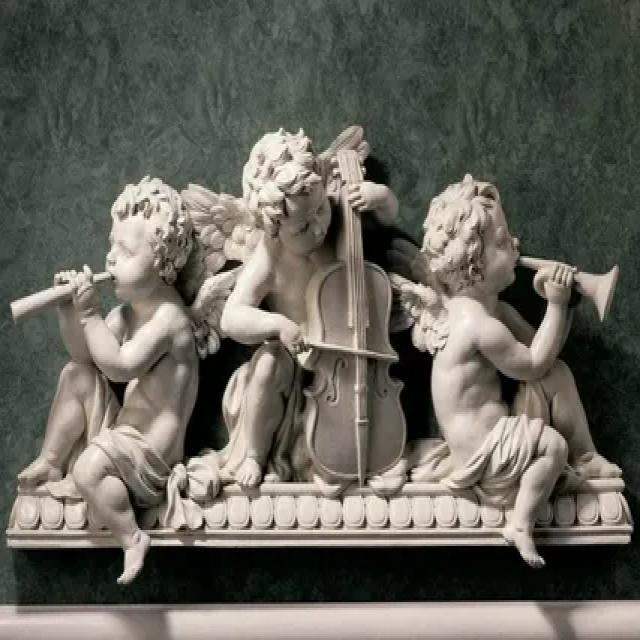angel: (192, 104, 417, 512)
